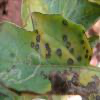Tomato Septoria leaf spot: (1, 10, 93, 92)
